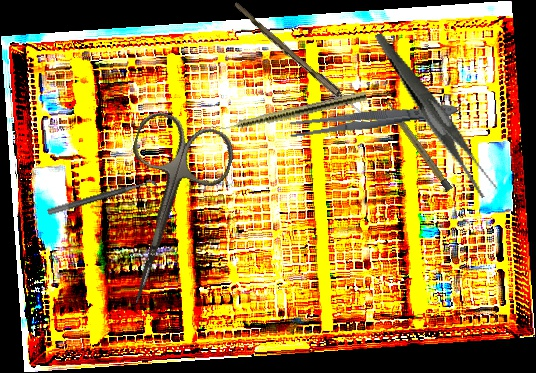Dressing Forceps: (374, 14, 499, 214), (288, 98, 459, 141)
Fixation Ring: (46, 177, 160, 225)
Handpiece: (209, 89, 368, 137)
Iris Scissors: (87, 107, 240, 318)
Scalpel Handle: (381, 97, 453, 192)
Surgical Spoon: (230, 1, 381, 130)
